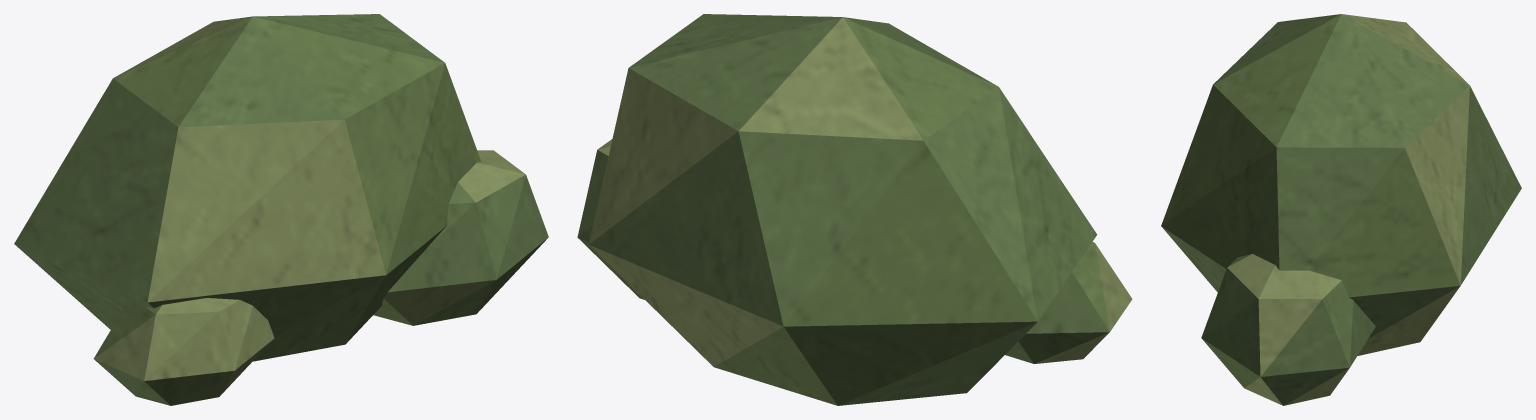
Rendered from matorral.glb.
3 renders of one model, left to right at view 1: azimuth 30°, elevation 25°; view 2: azimuth 150°, elevation 25°; view 3: azimuth 270°, elevation 25°, orthographic. The views are drawn at different scales.
Visible parts, largest first — view 1: matorral; view 2: matorral; view 3: matorral.
Part boxes in pixels (x1,y1,x2,y2): matorral: (14,14,548,405); matorral: (577,14,1132,405); matorral: (1161,14,1521,405).
Size of the model in its own units: 3.05 by 1.91 by 2.14.
Materials: 1 (1 with a texture image).
